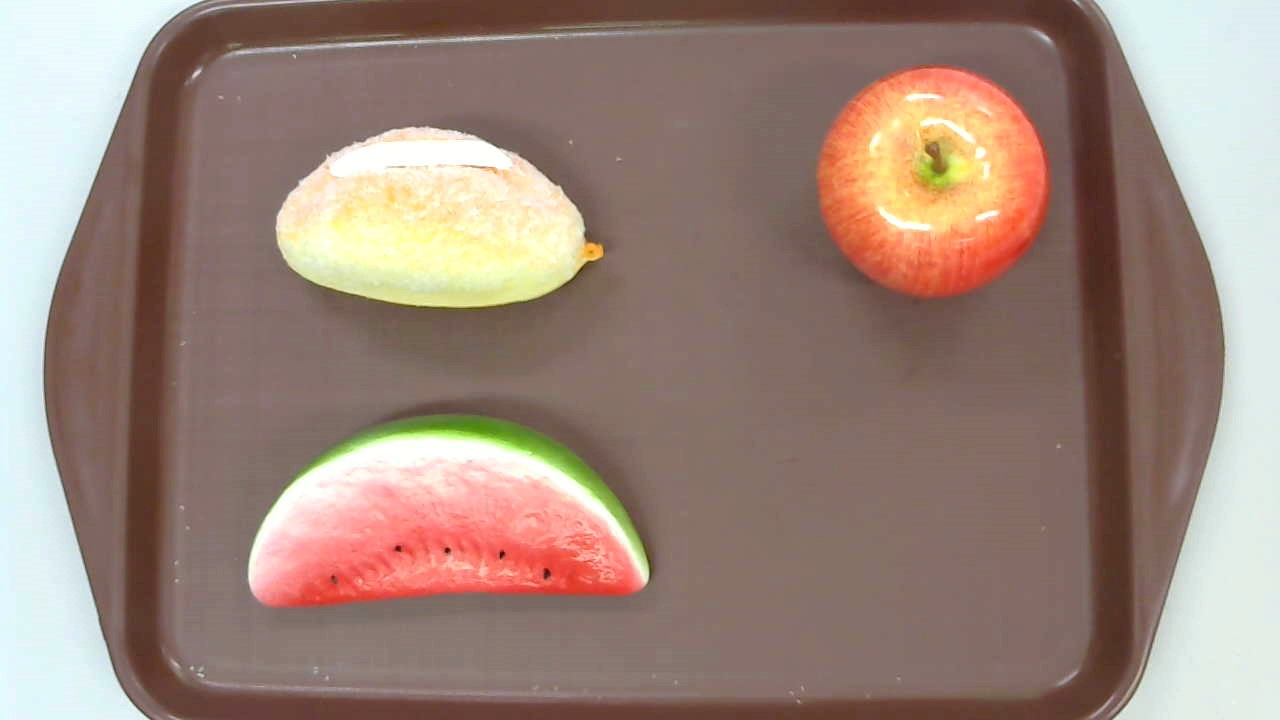coconut: (275, 125, 604, 309)
red apple: (816, 66, 1049, 301)
water melon: (247, 414, 650, 609)
